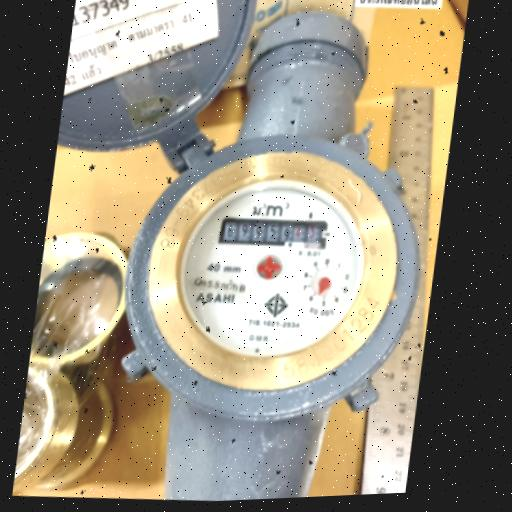4: (294, 224, 305, 242)
5: (267, 222, 280, 242), (307, 224, 319, 243)
6: (225, 221, 237, 241)
9: (253, 222, 266, 242), (240, 221, 252, 242), (282, 223, 293, 242)
border_water_meter_number: (219, 214, 330, 254)
